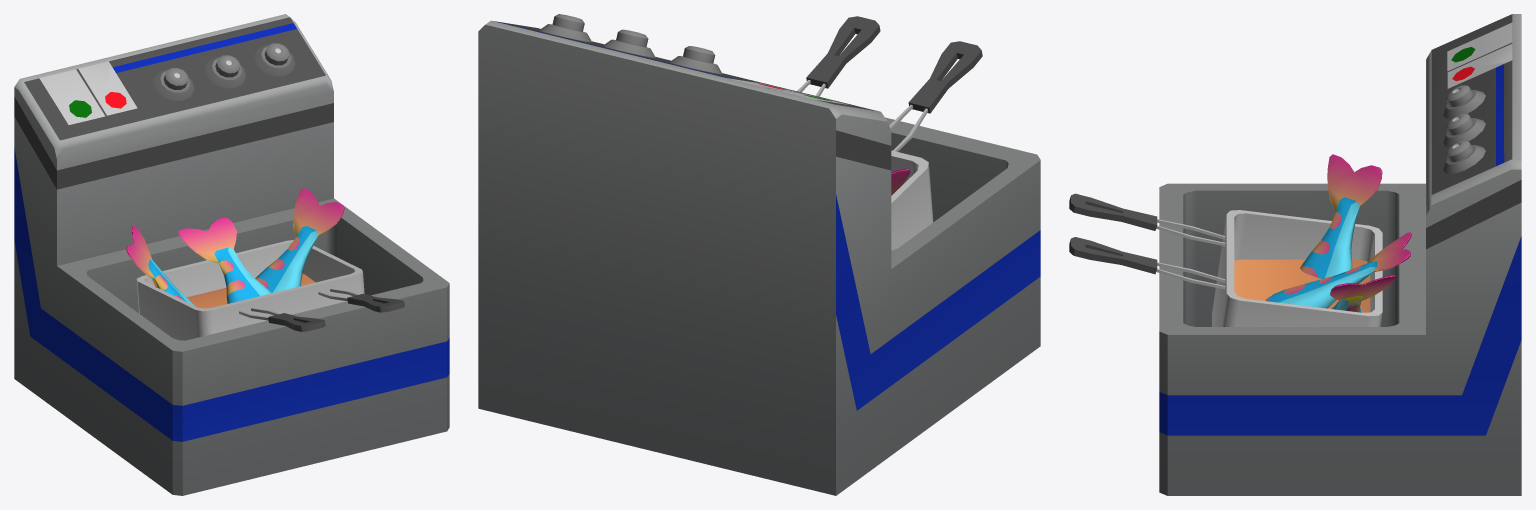
The model's file is Station Fishnchips.fbx.
The picture shows the model from 3 angles, left to right: view 1: azimuth 30°, elevation 25°; view 2: azimuth 150°, elevation 25°; view 3: azimuth 270°, elevation 25°; orthographic projection. The views are drawn at different scales.
Visible parts, largest first — view 1: Station_FishNChips; view 2: Station_FishNChips; view 3: Station_FishNChips.
Boxes of the visible parts, <box> form: Station_FishNChips: <box>14,14,449,495</box>; Station_FishNChips: <box>478,14,1040,495</box>; Station_FishNChips: <box>1069,14,1521,495</box>.
Bounding box in the file's own units: 170 × 175 × 216.
